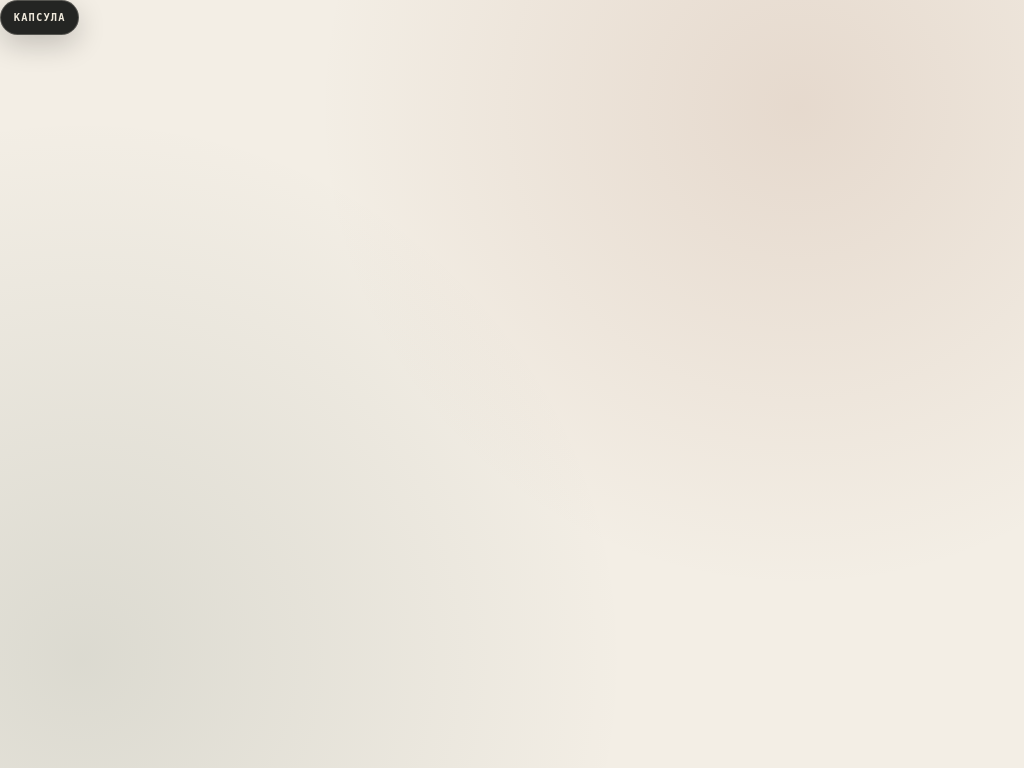
Scenario: GuestMessageCapsuleDock › keeps a saved message readable when the capsule is closed
Click the button with aria-label "Открыть капсулу сообщений" at (40, 18), box top-left (0, 0), bottom-right (79, 35)
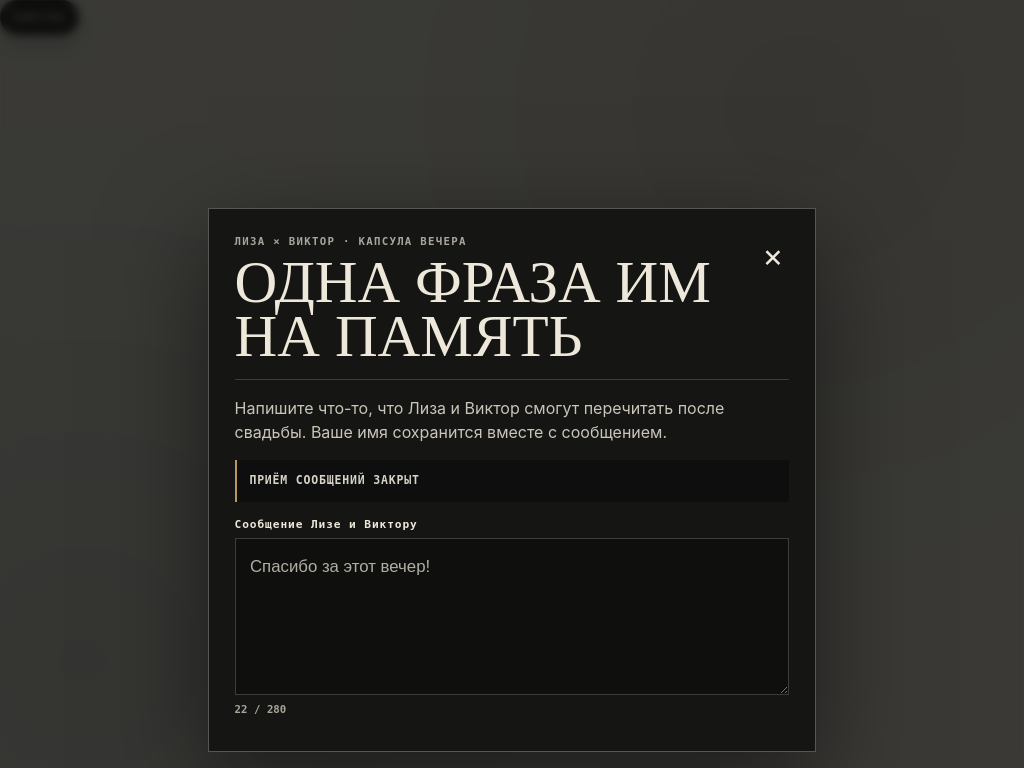
Check: the text box showing "Спасибо за этот вечер!" is disabled, box top-left (235, 538), bottom-right (789, 695)
Check: the text "ПРИЁМ СООБЩЕНИЙ ЗАКРЫТ" is shown, box top-left (235, 460), bottom-right (789, 502)
